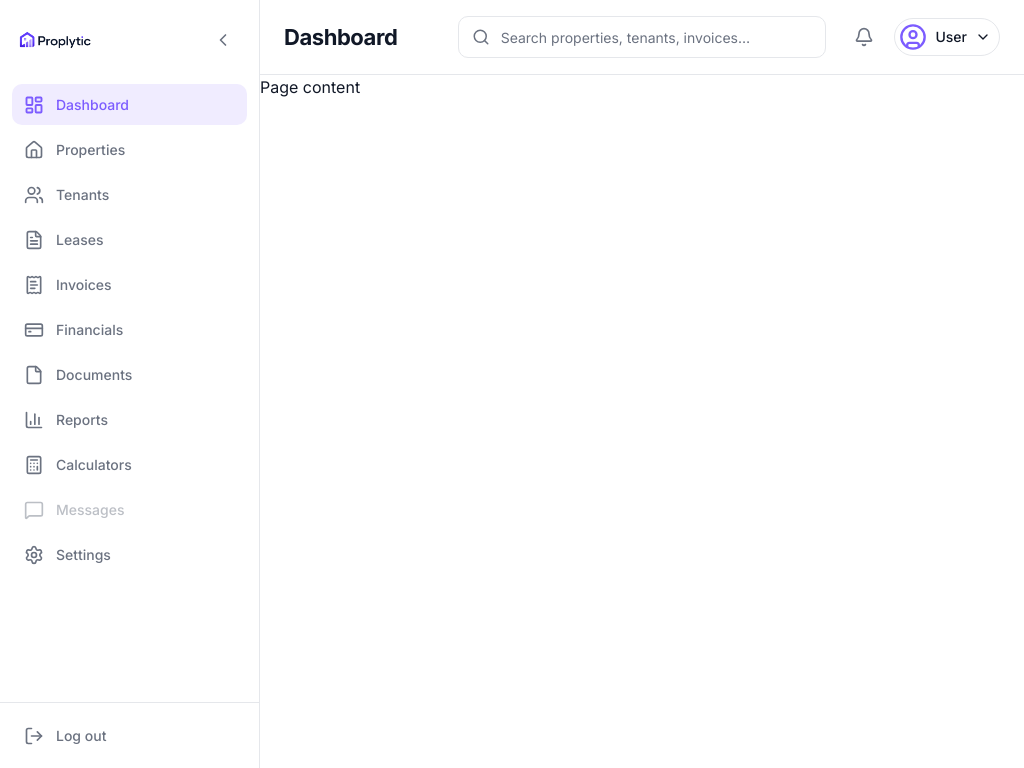
Test: DashboardShell › collapses and expands the desktop sidebar
Click the button named "collapse sidebar" at {"x": 223, "y": 40}, box [203,20,243,60]
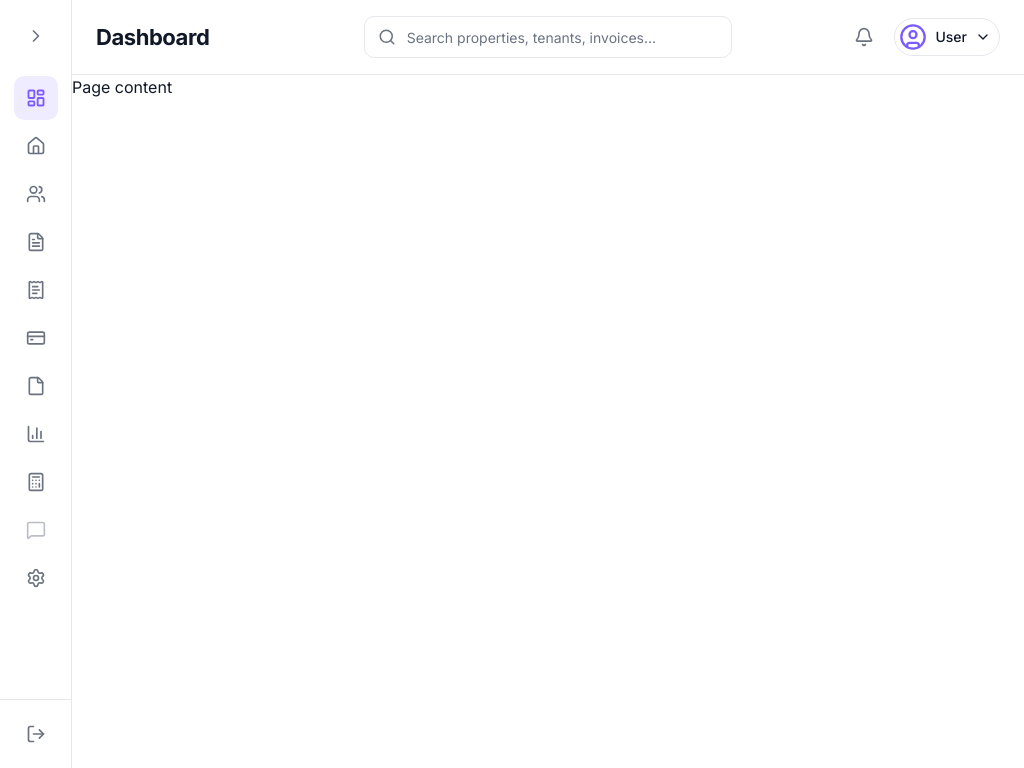
Expected: the button named "expand sidebar" is shown
Expected: the element showing "Dashboard User Page content" is shown
Click the button named "expand sidebar" at {"x": 36, "y": 36}, box [16,16,56,56]
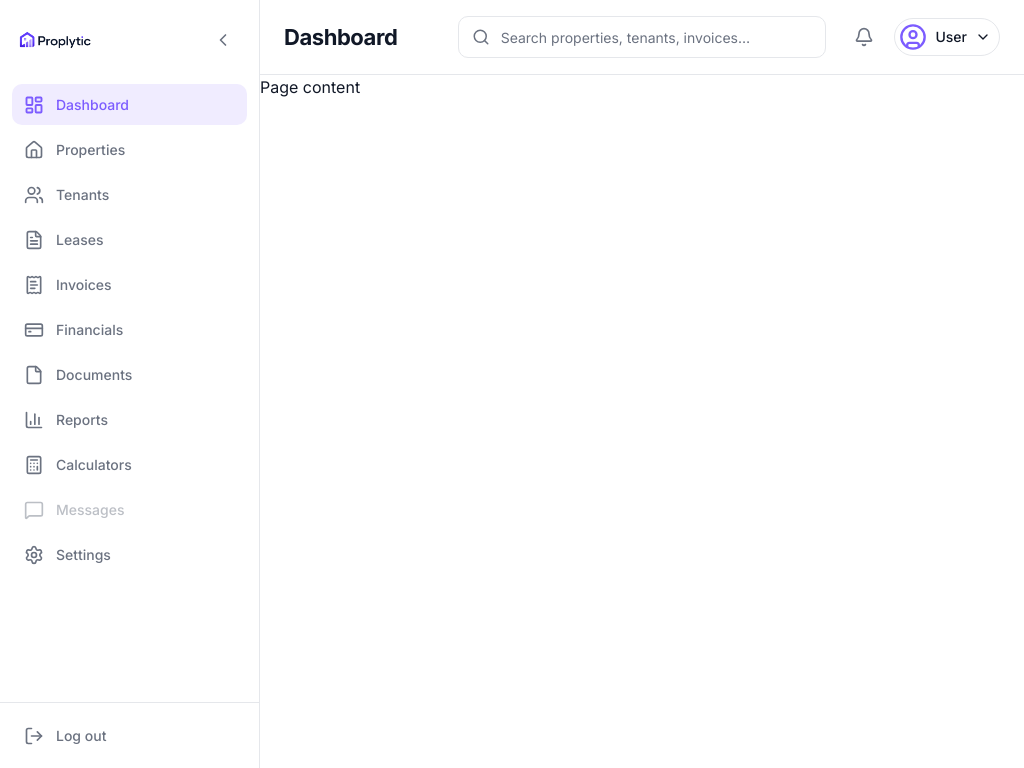
Expected: the button named "collapse sidebar" is shown, [203,20,243,60]
